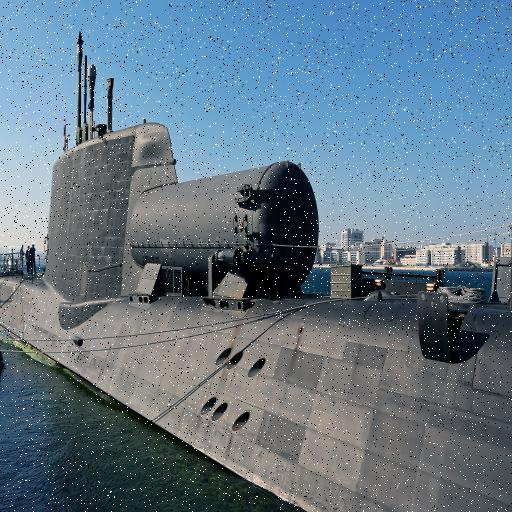submarine: (1, 17, 512, 512)
